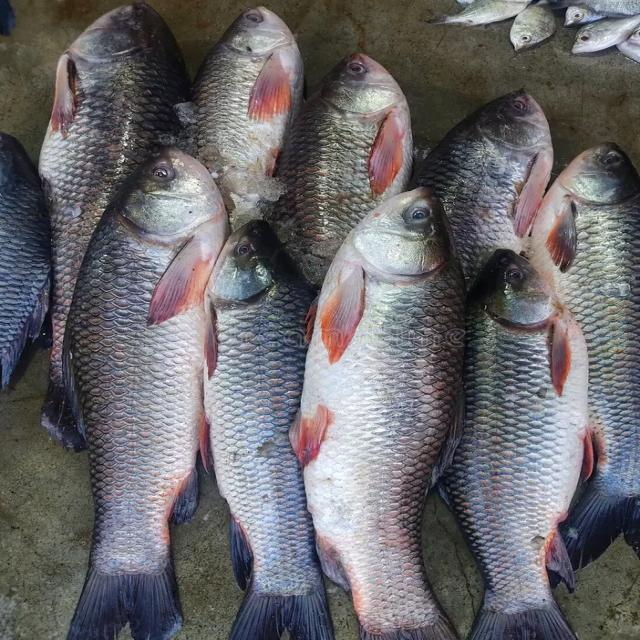Rohu: (62, 146, 227, 640), (288, 185, 466, 640)
